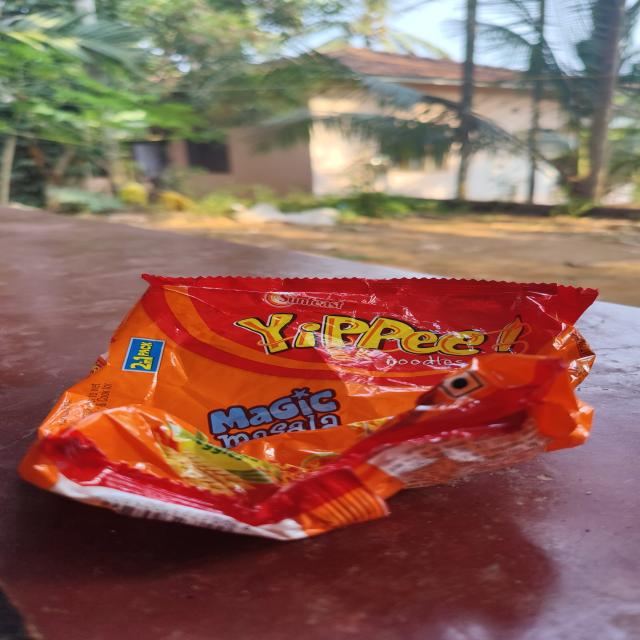plastic: (23, 269, 594, 550)
